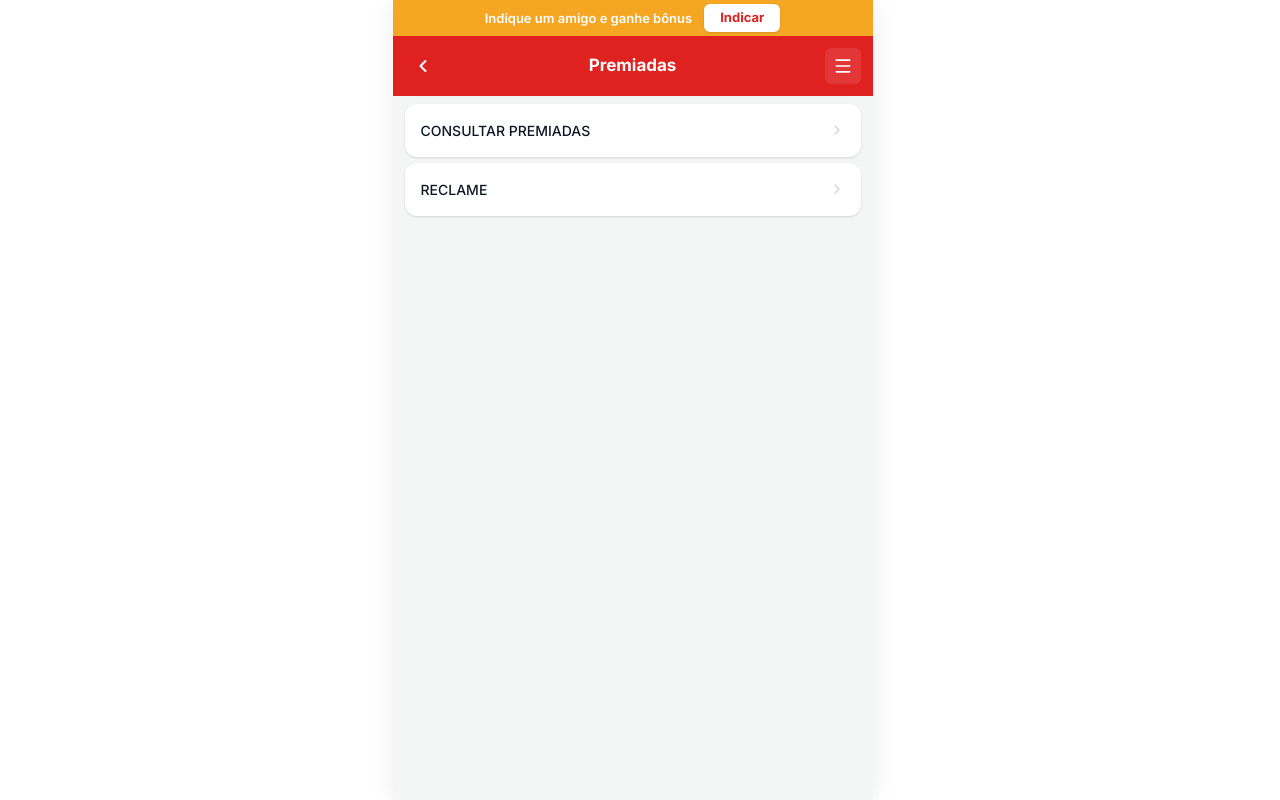
Test: SectionMenuPage › voltar leva ao início e o menu lateral abre
Click the button named "Abrir menu" at (842, 66), box 824,48 -> 860,84
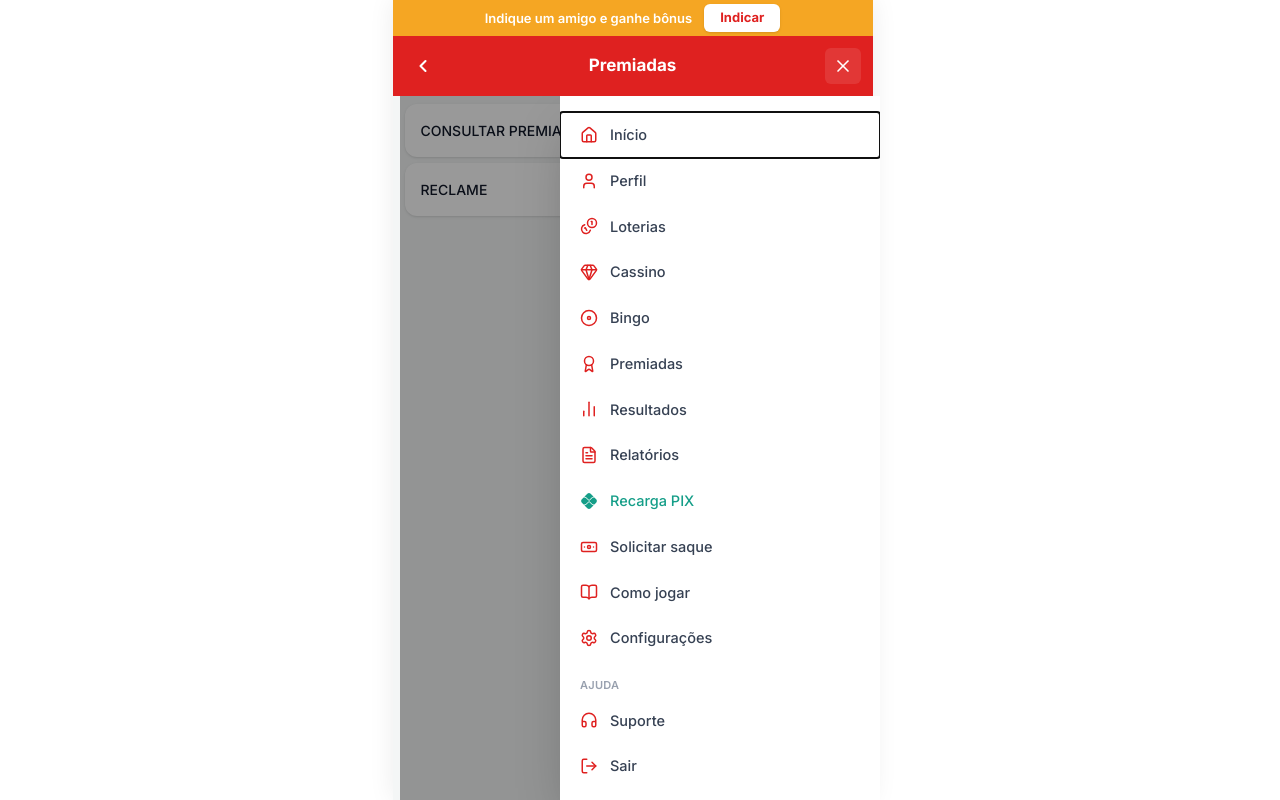
Result: the button named "Fechar menu" is expanded at 824,48 -> 860,84
